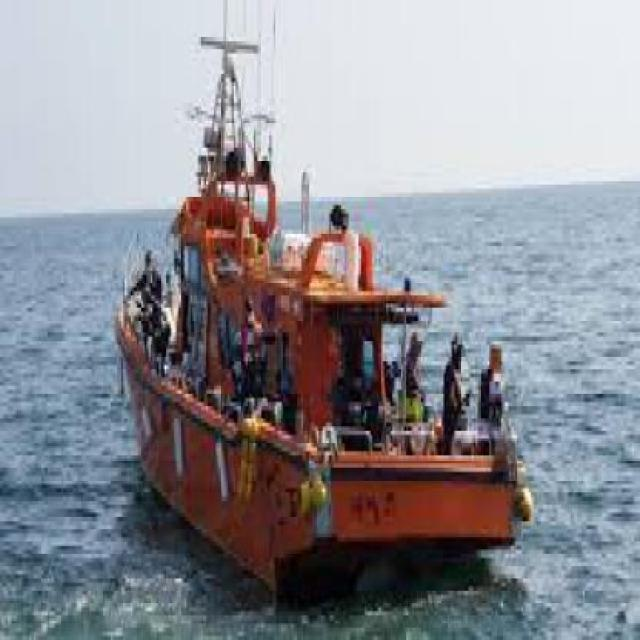fish-b: (104, 1, 540, 626)
